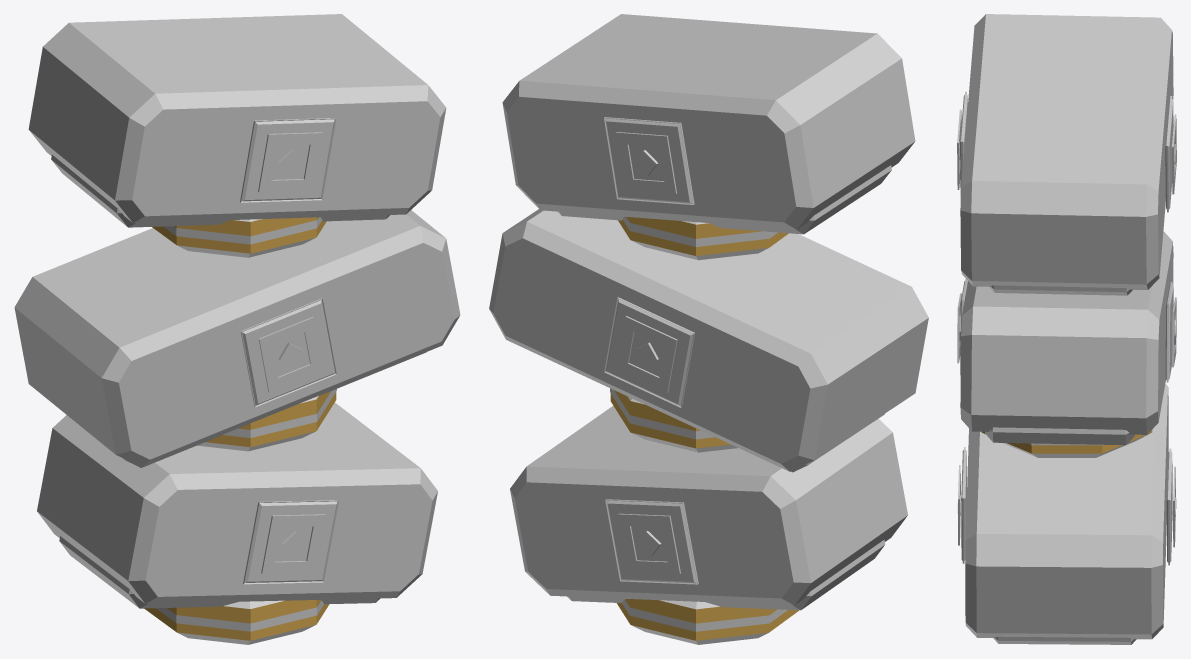
Rendered from wand_motion_18.obj.
3 views of the same model, side by side, from view 1: azimuth 30°, elevation 25°; view 2: azimuth 150°, elevation 25°; view 3: azimuth 270°, elevation 25° (orthographic). The views are drawn at different scales.
Visible parts, largest first — view 1: chamfered_seal_tablet_1, chamfered_seal_tablet_2, chamfered_seal_tablet_0, inset_rune_socket_5, inset_rune_socket_3, inset_rune_socket_1, tablet_spacer_0, tablet_spacer_2, tablet_spacer_1, seal_shadow_base_0, seal_shadow_base_2, tablet_spacer_dark_seam_0 (+2 smaller); view 2: chamfered_seal_tablet_1, chamfered_seal_tablet_2, chamfered_seal_tablet_0, inset_rune_socket_0, tablet_spacer_0, inset_rune_socket_2, inset_rune_socket_4, tablet_spacer_2, tablet_spacer_1, seal_shadow_base_2, seal_shadow_base_0, tablet_spacer_dark_seam_0 (+2 smaller); view 3: chamfered_seal_tablet_2, chamfered_seal_tablet_0, chamfered_seal_tablet_1, seal_shadow_base_1, tablet_spacer_1, seal_shadow_base_2, seal_shadow_base_0, inset_rune_socket_4, inset_rune_socket_2, inset_rune_socket_0, inset_rune_socket_1, inset_rune_socket_5.
Boxes of the visible parts, left/top/right/bottom form: chamfered_seal_tablet_1: left=14, top=210, right=460, bottom=467; chamfered_seal_tablet_2: left=28, top=14, right=446, bottom=223; chamfered_seal_tablet_0: left=37, top=402, right=437, bottom=603; inset_rune_socket_5: left=240, top=118, right=336, bottom=202; inset_rune_socket_3: left=240, top=298, right=336, bottom=407; inset_rune_socket_1: left=243, top=500, right=338, bottom=584; tablet_spacer_0: left=144, top=600, right=329, bottom=644; tablet_spacer_2: left=152, top=217, right=326, bottom=257; tablet_spacer_1: left=197, top=391, right=336, bottom=451; seal_shadow_base_0: left=59, top=536, right=380, bottom=608; seal_shadow_base_2: left=51, top=155, right=389, bottom=227; tablet_spacer_dark_seam_0: left=156, top=600, right=323, bottom=631; chamfered_seal_tablet_1: left=489, top=209, right=928, bottom=471; chamfered_seal_tablet_2: left=502, top=14, right=915, bottom=229; chamfered_seal_tablet_0: left=510, top=405, right=907, bottom=605; inset_rune_socket_0: left=605, top=499, right=698, bottom=584; tablet_spacer_0: left=617, top=599, right=798, bottom=644; inset_rune_socket_2: left=604, top=297, right=694, bottom=407; inset_rune_socket_4: left=604, top=117, right=694, bottom=204; tablet_spacer_2: left=618, top=217, right=788, bottom=260; tablet_spacer_1: left=610, top=390, right=737, bottom=452; seal_shadow_base_2: left=558, top=165, right=891, bottom=234; seal_shadow_base_0: left=567, top=540, right=885, bottom=610; tablet_spacer_dark_seam_0: left=622, top=599, right=787, bottom=631; chamfered_seal_tablet_2: left=960, top=14, right=1173, bottom=289; chamfered_seal_tablet_0: left=965, top=384, right=1168, bottom=639; chamfered_seal_tablet_1: left=960, top=231, right=1173, bottom=434; seal_shadow_base_1: left=985, top=427, right=1134, bottom=445; tablet_spacer_1: left=981, top=430, right=1152, bottom=457; seal_shadow_base_2: left=989, top=285, right=1132, bottom=295; seal_shadow_base_0: left=993, top=636, right=1136, bottom=644; inset_rune_socket_4: left=1165, top=96, right=1173, bottom=212; inset_rune_socket_2: left=1165, top=282, right=1173, bottom=382; inset_rune_socket_0: left=1166, top=448, right=1172, bottom=565; inset_rune_socket_1: left=961, top=447, right=966, bottom=563; inset_rune_socket_5: left=960, top=91, right=967, bottom=195.
Size of the model in its own units: 0.1991 by 0.3089 by 0.1147.
